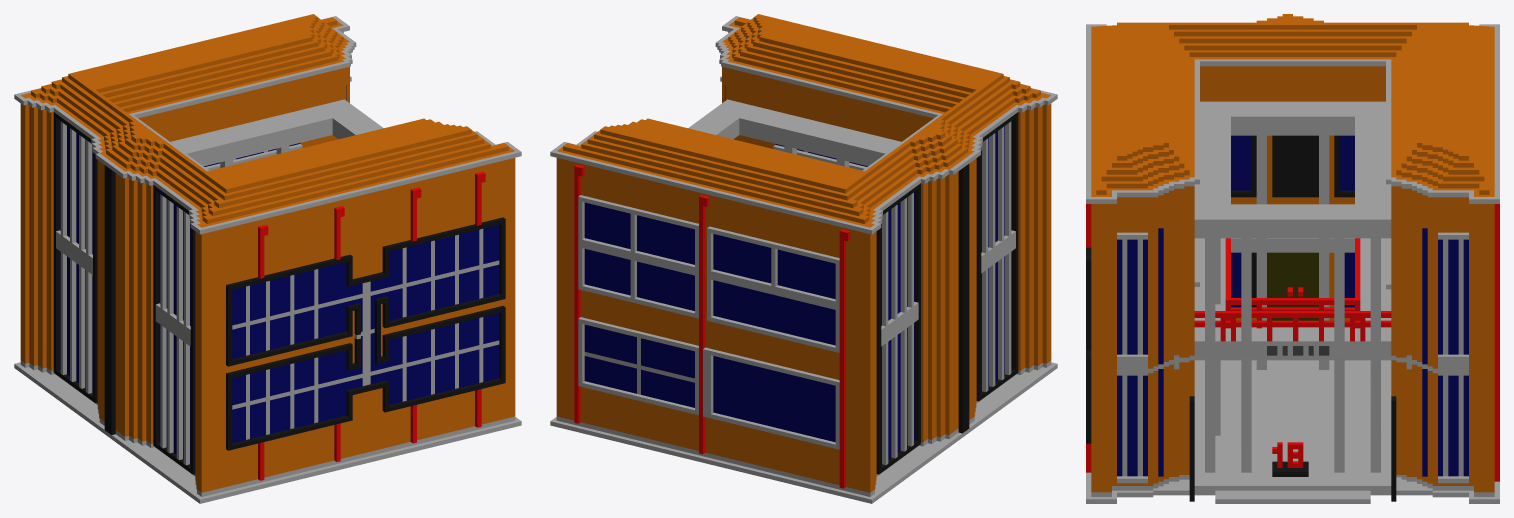
The model's file is bloque18_embed_textures.fbx.
The picture shows the model from 3 angles, left to right: view 1: azimuth 30°, elevation 25°; view 2: azimuth 150°, elevation 25°; view 3: azimuth 270°, elevation 25°; orthographic projection. The views are drawn at different scales.
Parts seen in each view (by area): view 1: bloque18; view 2: bloque18; view 3: bloque18.
Boxes of the visible parts, bbox=[...] form: bloque18: bbox=[14, 14, 521, 503]; bloque18: bbox=[550, 14, 1057, 503]; bloque18: bbox=[1086, 14, 1499, 503].
Size of the model in its own units: 800 by 700 by 800.
1 material, 1 textured.
